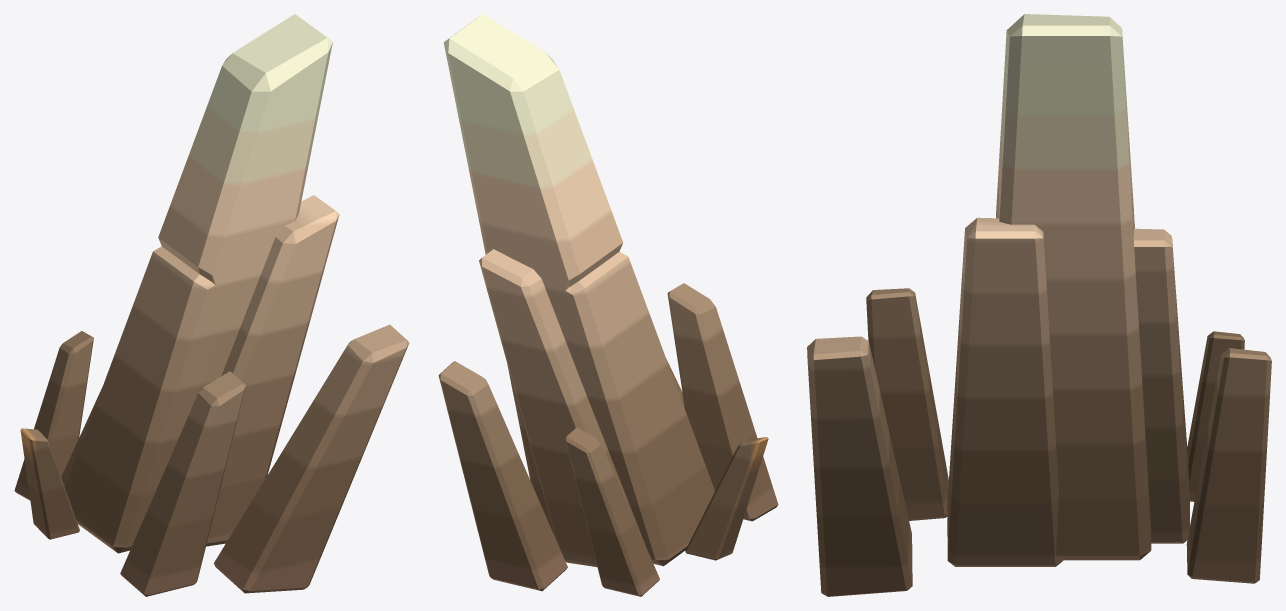
Rendered from rock_007.fbx.
3 renders of one model, left to right at view 1: azimuth 30°, elevation 25°; view 2: azimuth 150°, elevation 25°; view 3: azimuth 270°, elevation 25°, orthographic. The views are drawn at different scales.
Parts seen in each view (by area): view 1: rock.007; view 2: rock.007; view 3: rock.007.
Boxes of the visible parts, x1=… form: rock.007: x1=14, y1=14, x2=409, y2=596; rock.007: x1=438, y1=14, x2=778, y2=596; rock.007: x1=807, y1=14, x2=1271, y2=596.
Size of the model in its own units: 45.75 by 70.51 by 46.84.
